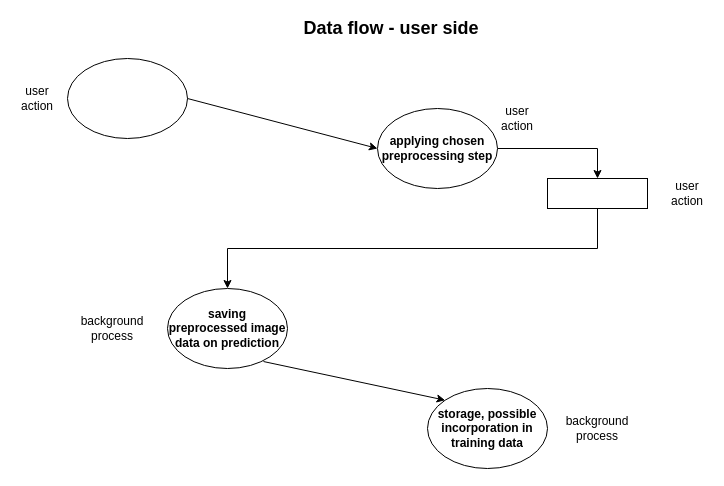
Image size: 724x486. Some labels were removed from this diagram. Here are the shapes that lost their labels. From the top down, the centre of each, then its label:
(x=127, y=98): upload image
(x=597, y=193): hit predict button
